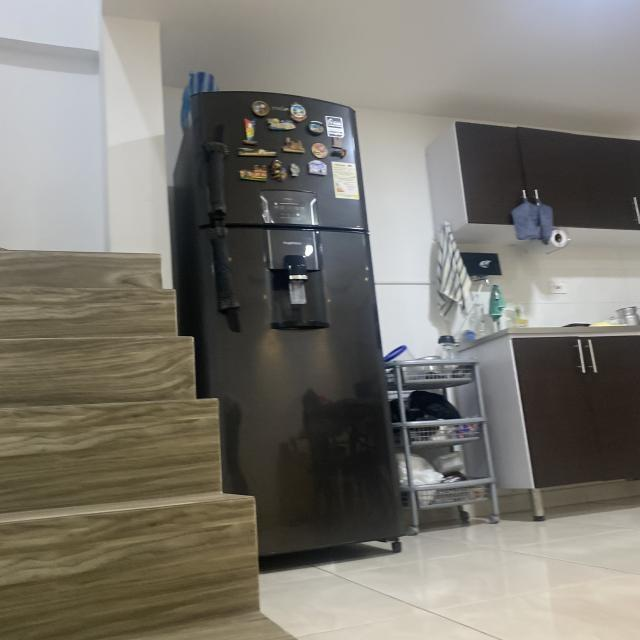obstacle: (170, 50, 445, 593), (471, 302, 640, 524), (374, 340, 528, 534)
stair: (1, 233, 327, 640)
